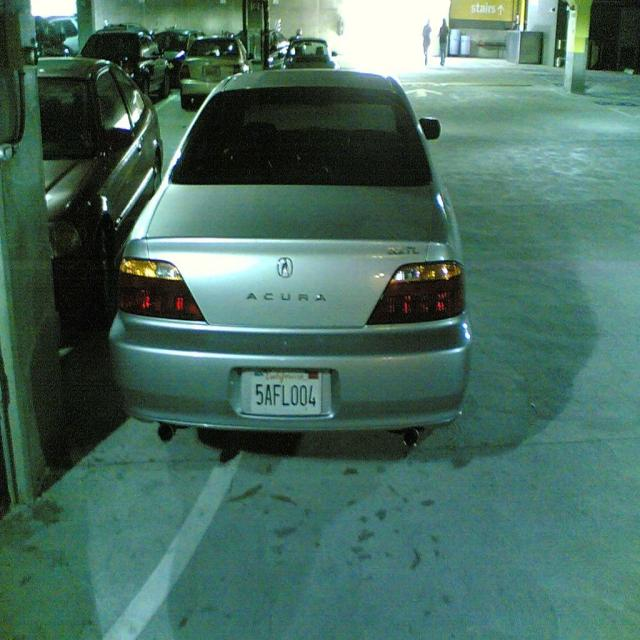car: (107, 67, 473, 451)
